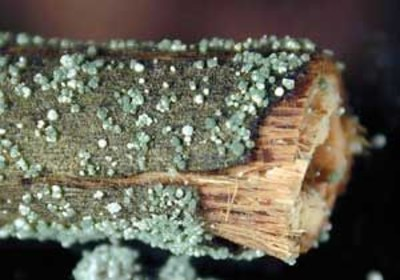Trichoderma: (8, 188, 207, 251), (20, 56, 105, 104), (80, 248, 192, 280), (238, 59, 294, 90)
